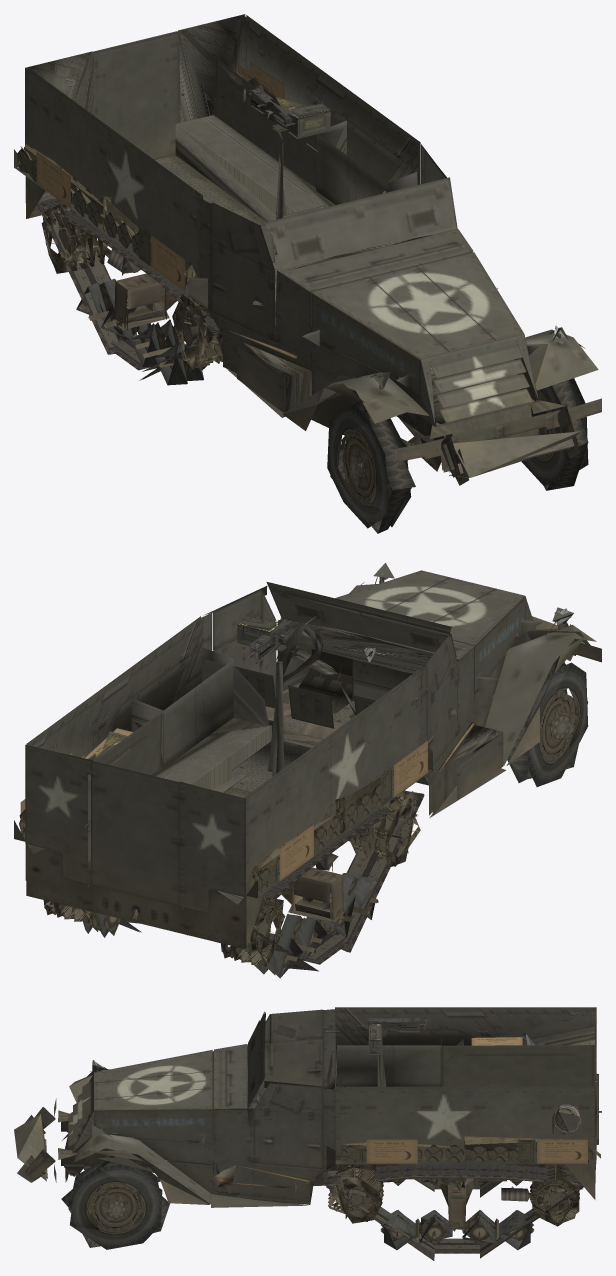
File: m3_halftrack_enkel.glb
The picture shows the model from 3 angles, top to bottom: view 1: azimuth 30°, elevation 25°; view 2: azimuth 150°, elevation 25°; view 3: azimuth 270°, elevation 25°; orthographic projection. The views are drawn at different scales.
Visible parts, largest first — view 1: hull.001, open-interior, hatch3.001, wheel.001, hatch2.001, hull2, track1, wheel2, wheel3, wheel13, weapon.001, d-optionb (+7 smaller); view 2: hull.001, open-interior, hatch3.001, wheel.001, track1, hatch2.001, hull2, hatch.001, wheel3, wheel13, weapon.001, d-optionb (+12 smaller); view 3: hull.001, open-interior, wheel2, hatch.001, track2, hatch2.001, wheel4, wheel14, a-optionb, b-optionc, hull2, weapon.001 (+11 smaller).
Part boxes in pixels (left/top/right/bottom): hull.001: left=14, top=14, right=601, bottom=485; open-interior: left=27, top=14, right=536, bottom=434; hatch3.001: left=92, top=31, right=178, bottom=159; wheel.001: left=327, top=401, right=415, bottom=533; hatch2.001: left=211, top=202, right=274, bottom=340; hull2: left=87, top=238, right=541, bottom=471; track1: left=37, top=198, right=222, bottom=380; wheel2: left=520, top=378, right=588, bottom=490; wheel3: left=172, top=294, right=222, bottom=370; wheel13: left=41, top=204, right=107, bottom=273; weapon.001: left=243, top=85, right=331, bottom=152; d-optionb: left=138, top=226, right=185, bottom=291; hull.001: left=14, top=563, right=601, bottom=961; open-interior: left=27, top=589, right=524, bottom=904; hatch3.001: left=91, top=761, right=178, bottom=905; wheel.001: left=507, top=656, right=588, bottom=786; track1: left=253, top=790, right=424, bottom=971; hatch2.001: left=425, top=635, right=458, bottom=765; hull2: left=331, top=620, right=542, bottom=871; hatch.001: left=212, top=589, right=276, bottom=691; wheel3: left=349, top=791, right=420, bottom=866; wheel13: left=221, top=897, right=285, bottom=966; weapon.001: left=236, top=616, right=316, bottom=663; d-optionb: left=381, top=740, right=427, bottom=806; hull.001: left=14, top=1007, right=601, bottom=1240; open-interior: left=72, top=1008, right=596, bottom=1203; wheel2: left=61, top=1155, right=169, bottom=1249; hatch.001: left=253, top=1083, right=323, bottom=1167; track2: left=322, top=1164, right=583, bottom=1260; hatch2.001: left=255, top=1009, right=323, bottom=1096; wheel4: left=328, top=1164, right=383, bottom=1223; wheel14: left=530, top=1164, right=579, bottom=1226; a-optionb: left=518, top=1139, right=587, bottom=1163; b-optionc: left=338, top=1139, right=417, bottom=1163; hull2: left=78, top=1115, right=583, bottom=1201; weapon.001: left=326, top=1014, right=426, bottom=1054.
Bounding box in the file's own units: 2.19 × 2.34 × 6.09.
9 materials, 9 textured.
